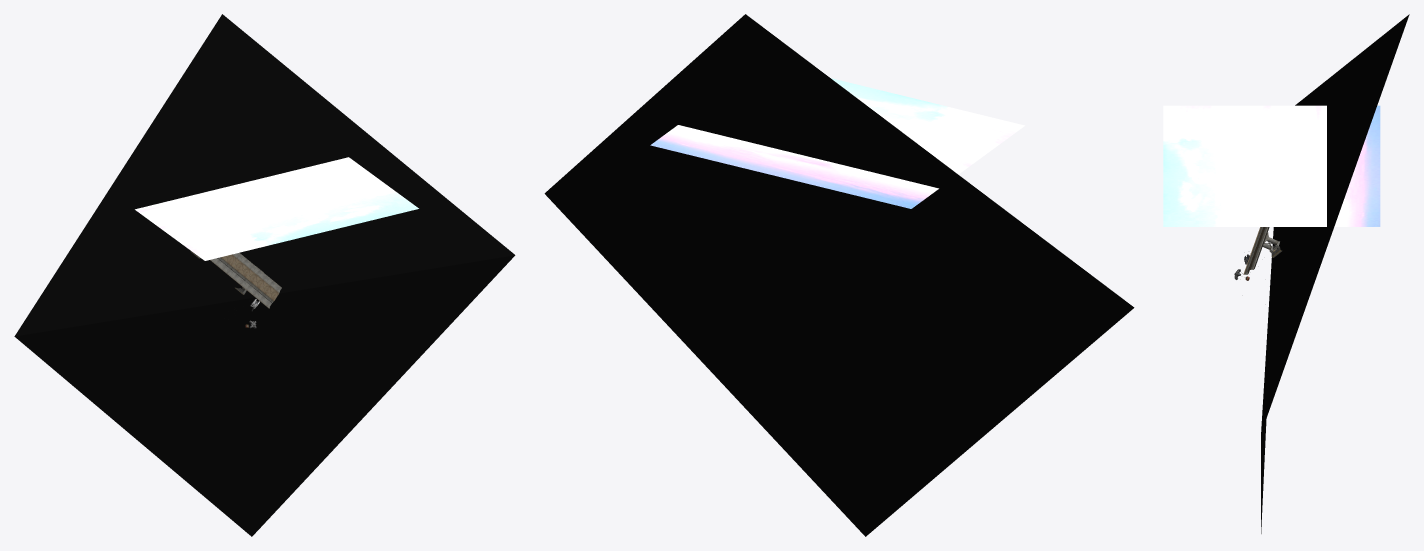
The model's file is Spring_games.glb.
3 renders of one model, left to right at view 1: azimuth 30°, elevation 25°; view 2: azimuth 150°, elevation 25°; view 3: azimuth 270°, elevation 25°, orthographic. The views are drawn at different scales.
Visible parts, largest first — view 1: Ground, Background, Bridge_0; view 2: Ground, Background; view 3: Background, Ground, Bridge_0.
Part boxes in pixels (<box>): Ground: <box>14,14,515,536</box>; Background: <box>135,157,418,260</box>; Bridge_0: <box>190,251,281,308</box>; Ground: <box>544,14,1134,536</box>; Background: <box>650,78,1024,208</box>; Background: <box>1163,105,1380,226</box>; Ground: <box>1261,14,1409,533</box>; Bridge_0: <box>1243,227,1282,274</box>.
Bounding box in the file's own units: 282 × 256 × 105.
Materials: 13 (10 with a texture image).
